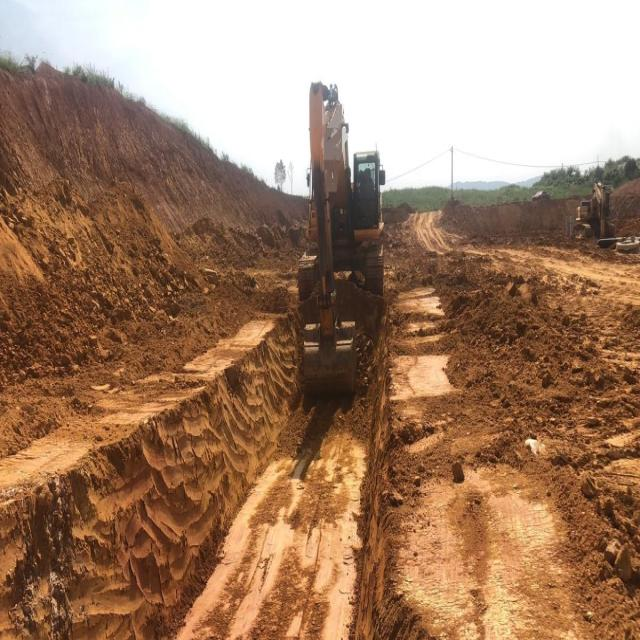excavator: (290, 63, 391, 409), (567, 175, 627, 255)
